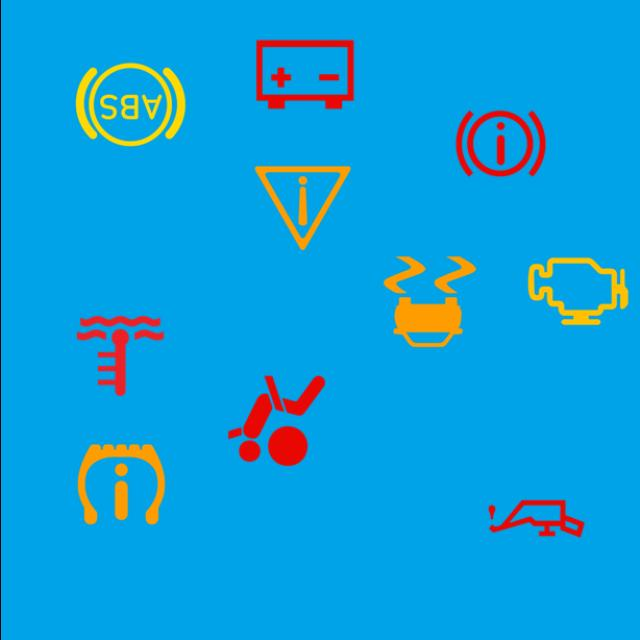Anti Lock Braking System: (70, 45, 190, 165)
Braking System Issue: (440, 84, 560, 204)
Charging System Issue: (244, 15, 364, 134)
Check Engine: (517, 232, 637, 352)
Electronic Stability Problem -ESP-: (369, 242, 489, 362)
Engine Overheating Warning Light: (59, 296, 180, 416)
Low Engine Oil Warning Light: (475, 458, 595, 578)
Low Tire Pressure Warning Light: (61, 424, 180, 544)
Master warning light: (242, 148, 362, 268)
SRS-Airbag: (216, 360, 336, 480)
